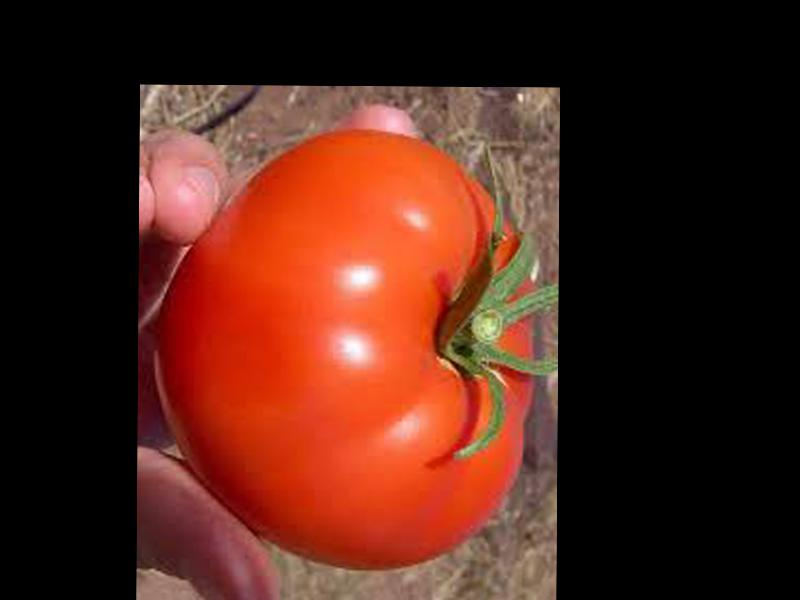Tomato: (157, 129, 533, 564)
